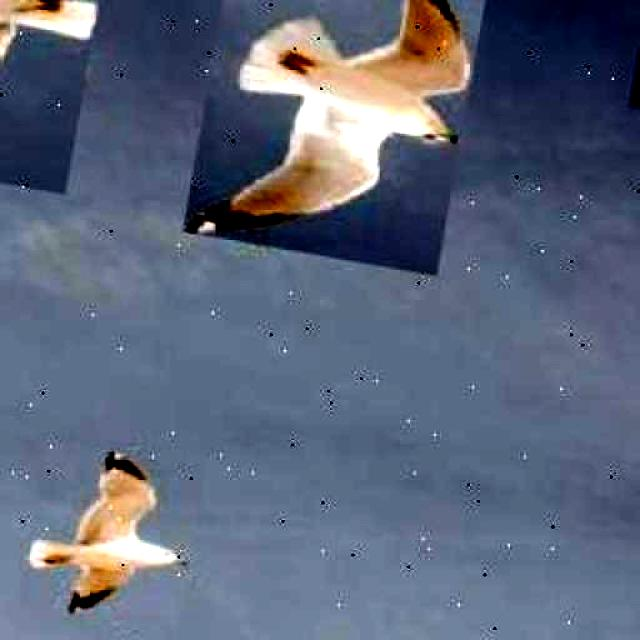airplane: (181, 0, 489, 275), (16, 439, 206, 631), (0, 0, 118, 194)
